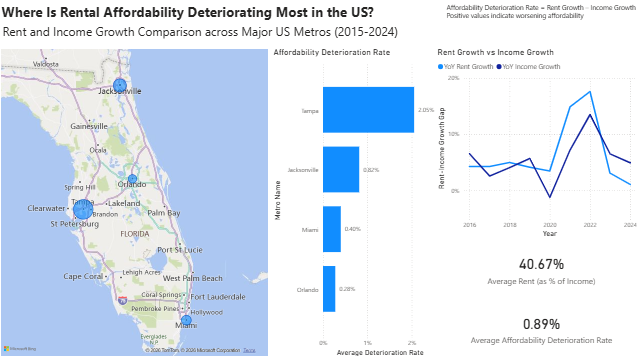

The page's visual inventory and layout, read from the dashboard file:
{"tool":"powerbi","page":{"name":"Page 1","canvas":[1280,720],"ordinal":0},"visuals":[{"type":"map","fields":{"Category":["dim_metro.metro_name","dim_metro.state"],"Size":["Avg(mart_affordability.growth_gap)"]},"box":[0,93.3,543.3,623.3],"z":0},{"type":"card","fields":{"Values":["Avg(mart_affordability.rent_to_income)"]},"box":[890,478,390,118],"z":1000},{"type":"card","fields":{"Values":["Avg(mart_affordability.growth_gap)"]},"box":[890,596,390,120],"z":2000},{"type":"actionButton","box":[0,0,100,40],"z":3000},{"type":"clusteredBarChart","title":"Affordability Deterioration Rate","fields":{"Category":["dim_metro.metro_name","dim_metro.state"],"Y":["Avg(mart_affordability.growth_gap)"]},"box":[543.3,93.3,346.7,623.3],"z":4000},{"type":"lineChart","title":"Rent Growth vs Income Growth","fields":{"Category":["mart_affordability.year"],"Y":["Avg(mart_affordability.yoy_rent_growth)","Avg(mart_affordability.yoy_income_growth)"]},"box":[871.7,93.3,408.3,386.7],"z":5000},{"type":"textbox","box":[0,0,763.3,53.3],"z":5001},{"type":"textbox","box":[1.7,40,821.7,41.7],"z":5002},{"type":"textbox","box":[890,0,390,55],"z":5003}]}

Visuals, with their boxes in screenshot pixels (x1, y1, x2, y2), scaled from the page's 1280x720 canvas onto the 637x358 screenshot:
map - dim_metro.metro_name x dim_metro.state: (0,46,270,356)
card - Avg(mart_affordability.rent_to_income): (443,238,636,296)
card - Avg(mart_affordability.growth_gap): (443,296,636,356)
actionButton: (0,0,50,20)
"Affordability Deterioration Rate" clusteredBarChart: (270,46,443,356)
"Rent Growth vs Income Growth" lineChart: (434,46,636,239)
textbox: (0,0,380,27)
textbox: (1,20,410,41)
textbox: (443,0,636,27)
